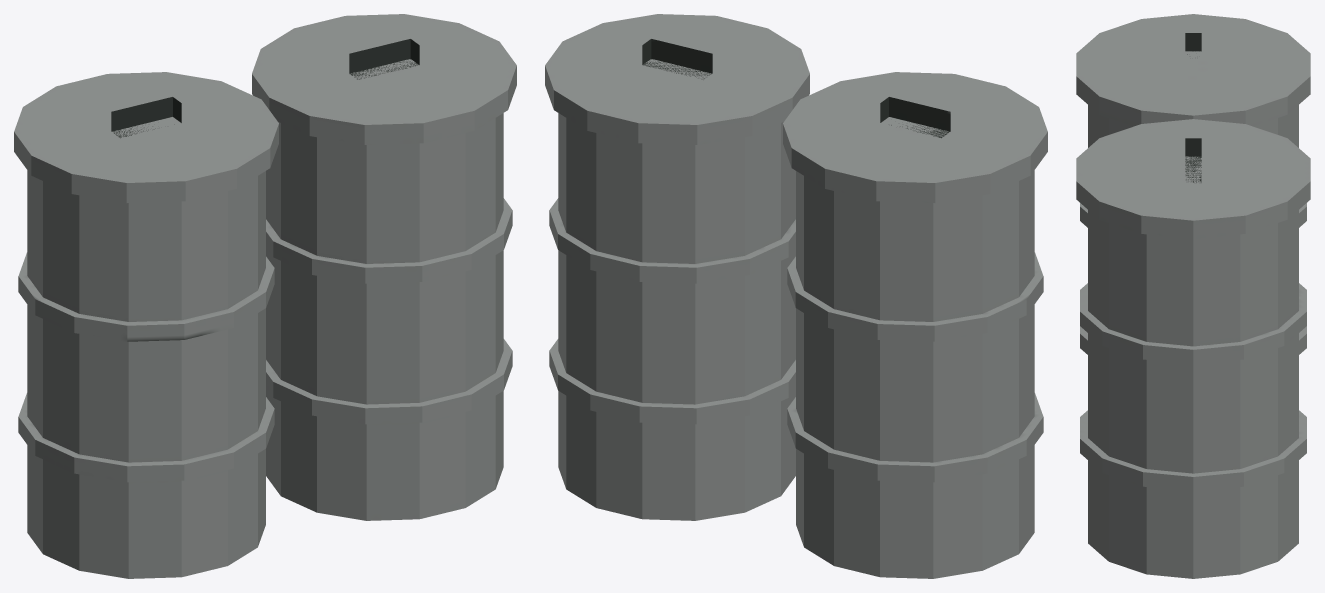
File: popelnice_53d21dfb.glb
The picture shows the model from 3 angles, left to right: view 1: azimuth 30°, elevation 25°; view 2: azimuth 150°, elevation 25°; view 3: azimuth 270°, elevation 25°; orthographic projection. The views are drawn at different scales.
Parts seen in each view (by area): view 1: dum; view 2: dum; view 3: dum.
Boxes of the visible parts, left/top/right/bottom form: dum: left=14, top=14, right=516, bottom=578; dum: left=545, top=14, right=1047, bottom=578; dum: left=1076, top=14, right=1310, bottom=578.
Bounding box in the file's own units: 1.22 × 1.05 × 0.5835.
Materials: 1 (1 with a texture image).
